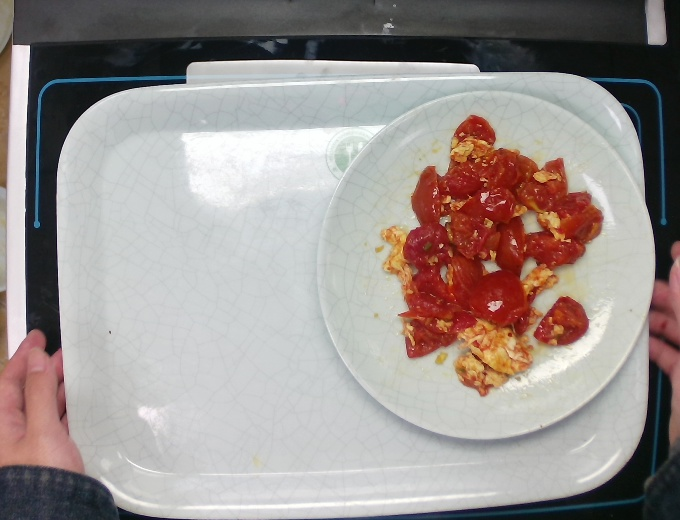JYsf-Da_Yuan_Pan: (311, 87, 658, 442)
